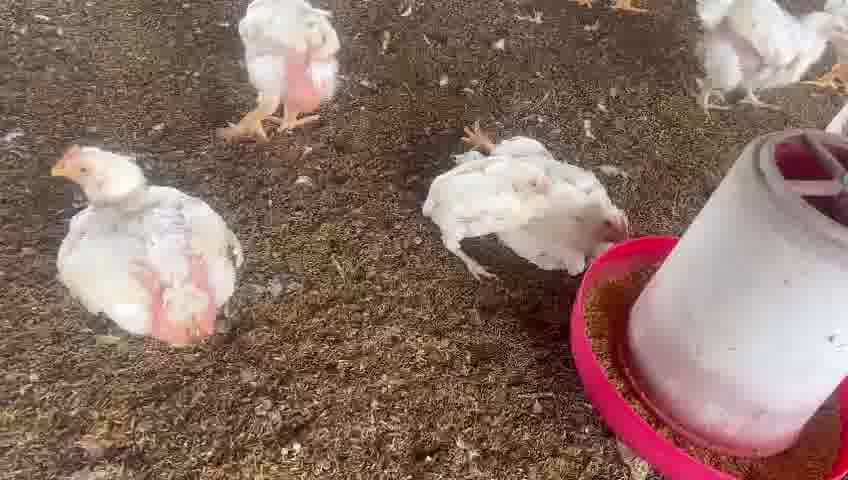AbNormal: (461, 120, 626, 262), (436, 160, 550, 271)
Normal: (38, 135, 254, 354), (220, 1, 355, 139), (701, 0, 848, 108)
